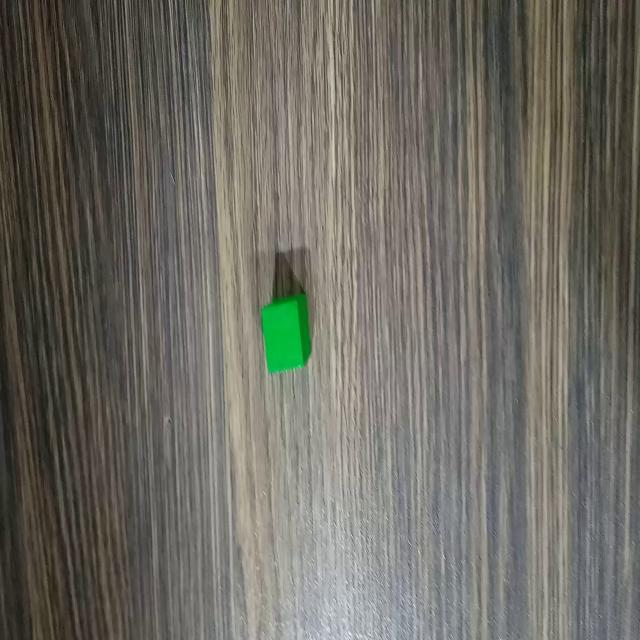cube: (259, 290, 315, 375)
